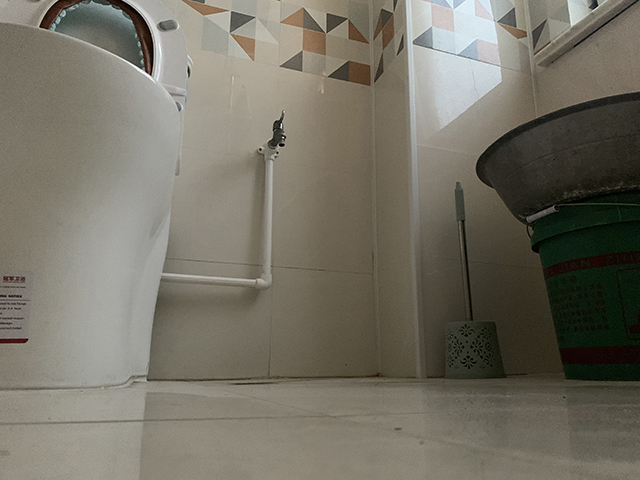closestool: (1, 1, 190, 390)
